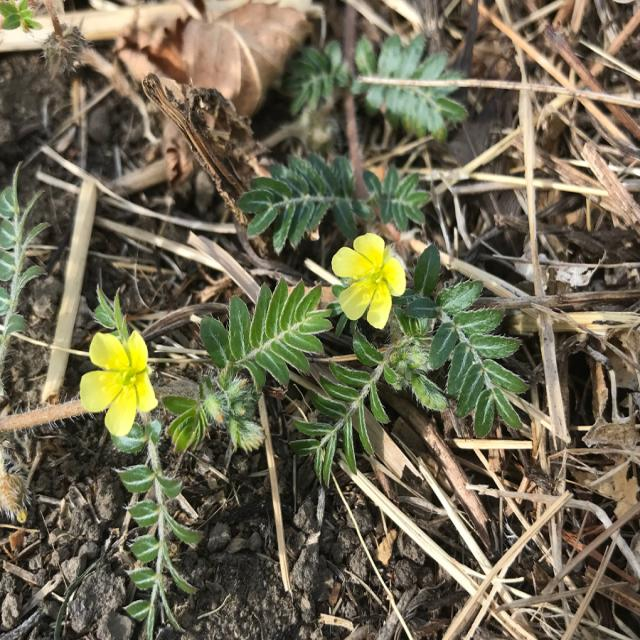Gokharu: (51, 264, 254, 604), (232, 207, 514, 448), (190, 65, 460, 263)
